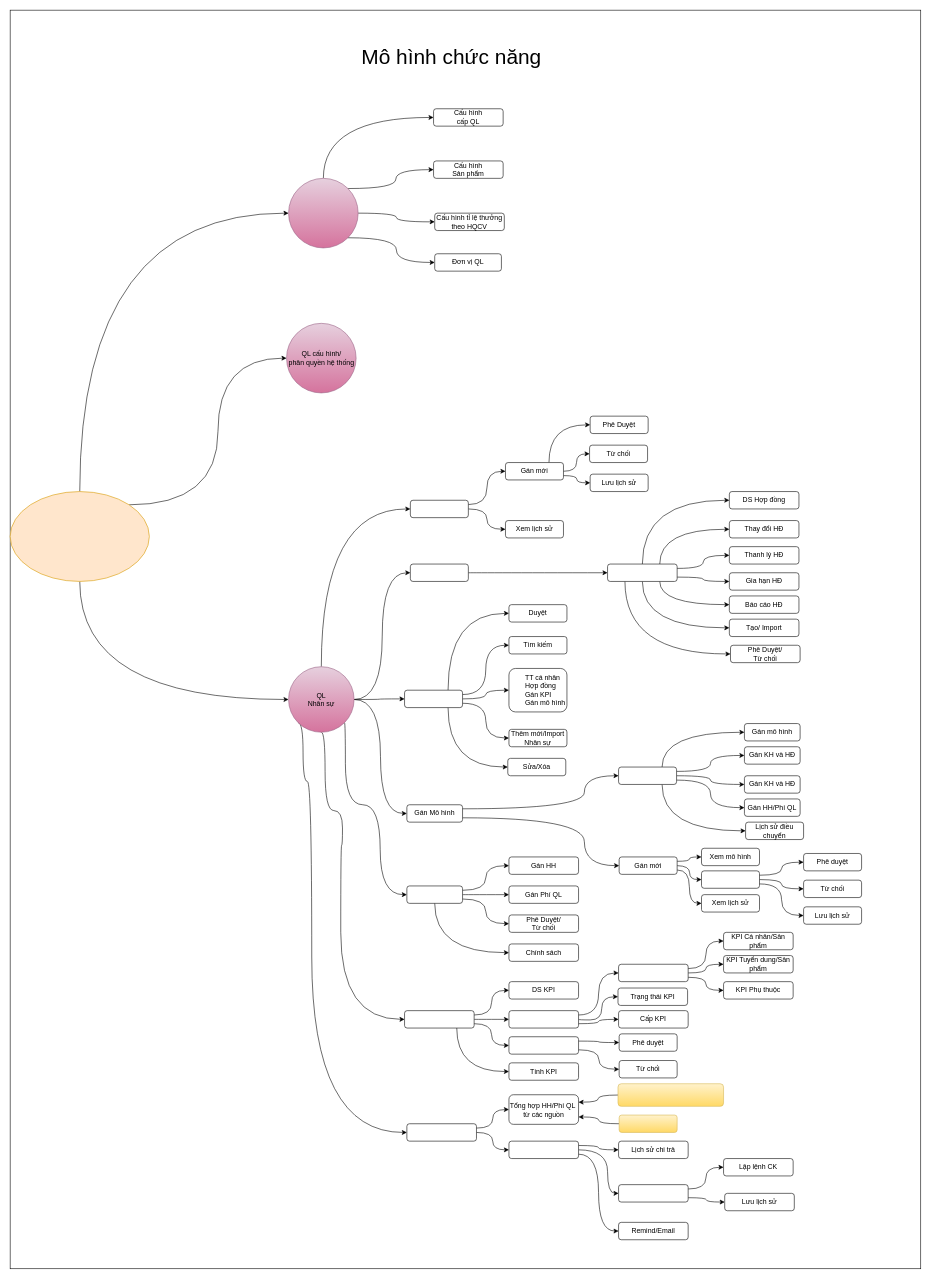
Some shapes in this 931 by 1279 pixel diagram are drawn without their labels. Each missing label, with the centre of its shape:
"Chức năng chính" goes at point 79,536.
"Gán" goes at point 730,879.
"Gán KPI" goes at point 543,1045.
"Gán NS chăm sóc KH" goes at point 439,509.
"Hoa Hồng/Phí QL" goes at point 434,894.
"Hệ thống sales mới" goes at point 648,1123.
"Hợp đồng (CTV)" goes at point 642,572.
"KPI" goes at point 439,1019.
"Loại KPI" goes at point 653,973.
"QL cấu hình nghiệp vụ hệ thống" goes at point 323,213.
"QL Hợp đồng" goes at point 439,572.
"Thu nhập/Chi trả" goes at point 441,1132.
"Thông tin KPI" goes at point 543,1019.
"Thông tin Nhân sự" goes at point 433,699.
"Thực hiện chi trả" goes at point 543,1150.
"Tạo và duyệt bảng tính" goes at point 653,1193.
"Từ các hệ thống (BO, Cấu trúc), báo cáo từ (DVTC, TVDT, TVTC)" goes at point 670,1094.
"Điều chuyển" goes at point 647,775.
